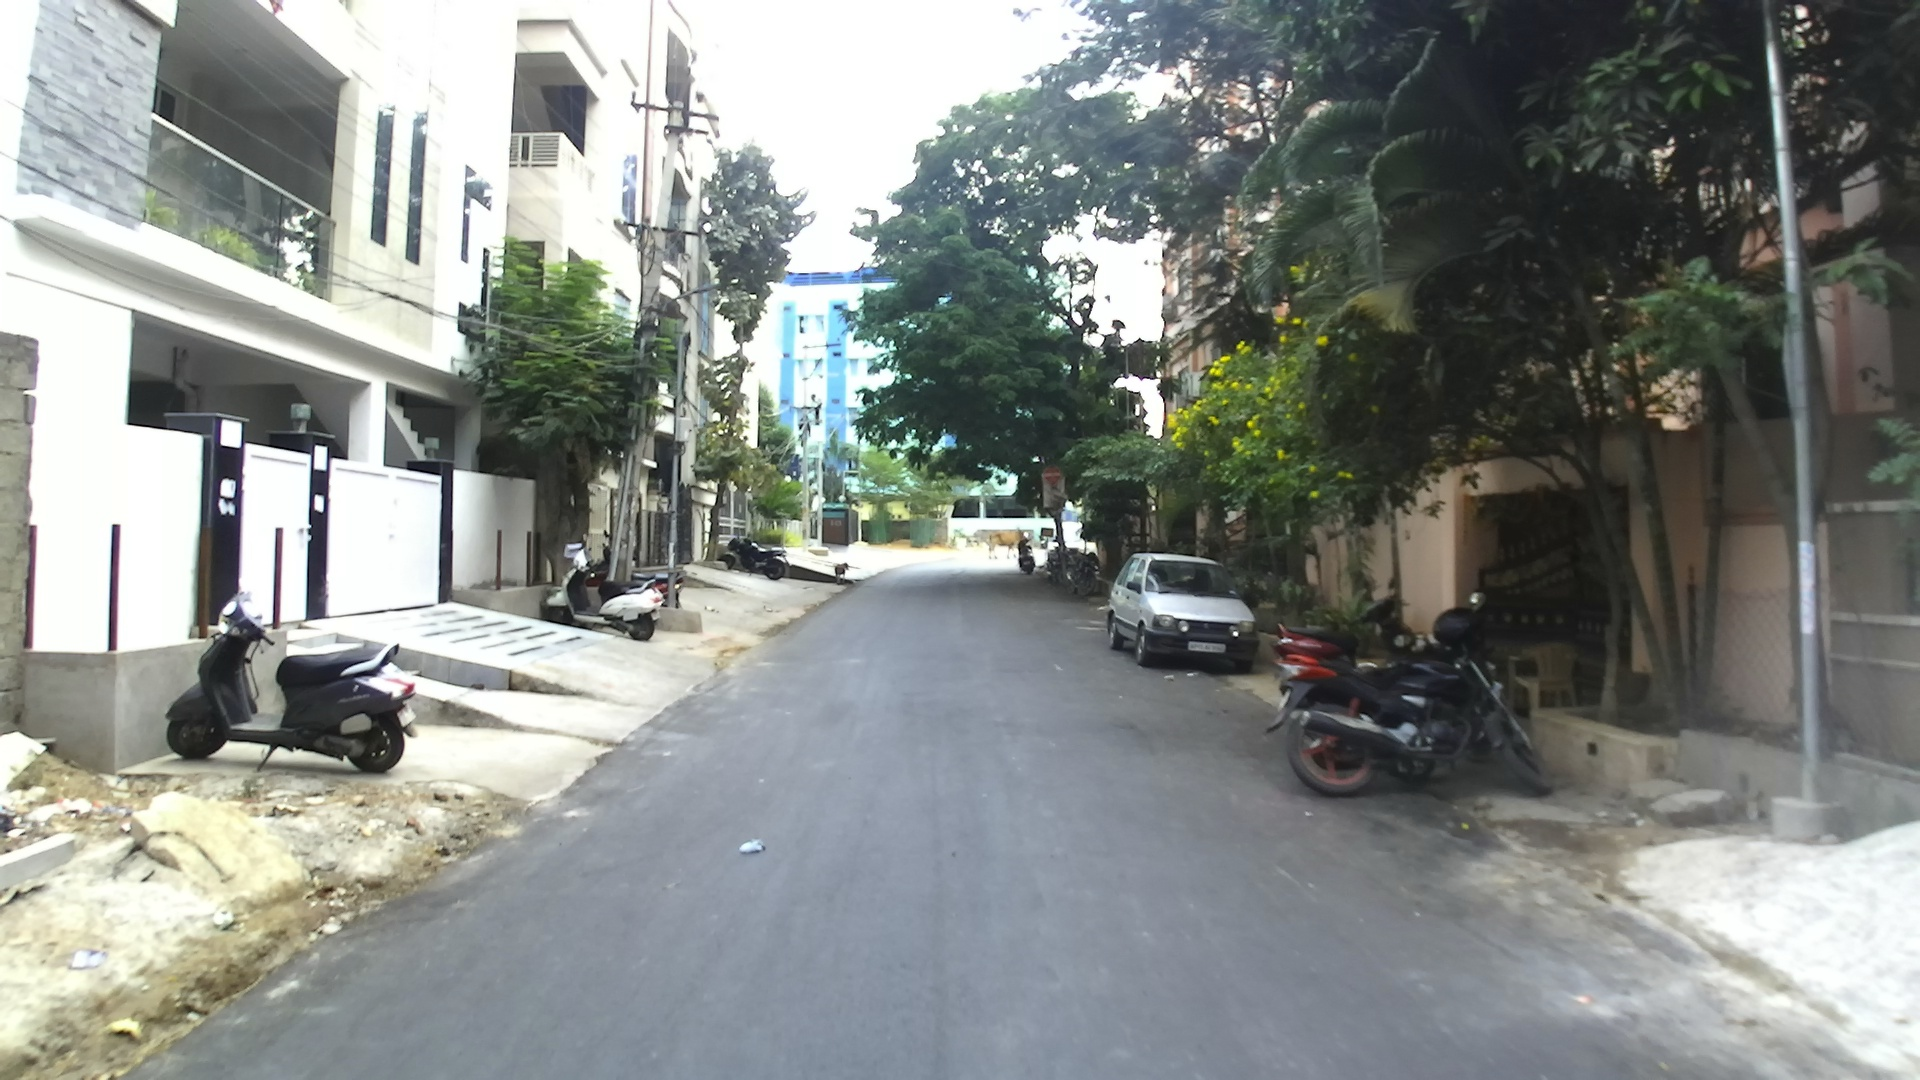vehicle: (1270, 601, 1552, 798), (162, 634, 419, 775), (1104, 551, 1255, 670)
